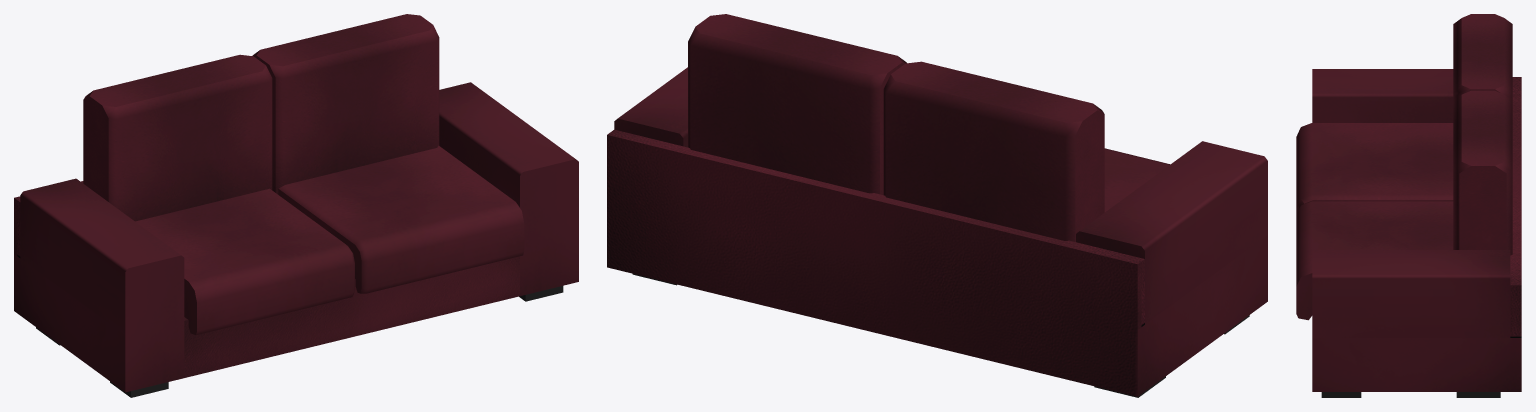
Rendered from sofa_UVok.fbx.
3 renders of one model, left to right at view 1: azimuth 30°, elevation 25°; view 2: azimuth 150°, elevation 25°; view 3: azimuth 270°, elevation 25°, orthographic. The views are drawn at different scales.
Visible parts, largest first — view 1: pCube4; view 2: pCube4; view 3: pCube4.
Part boxes in pixels (<box>): pCube4: <box>14,14,578,397</box>; pCube4: <box>607,14,1267,397</box>; pCube4: <box>1296,14,1521,397</box>.
Size of the model in its own units: 291 by 136 by 133.
